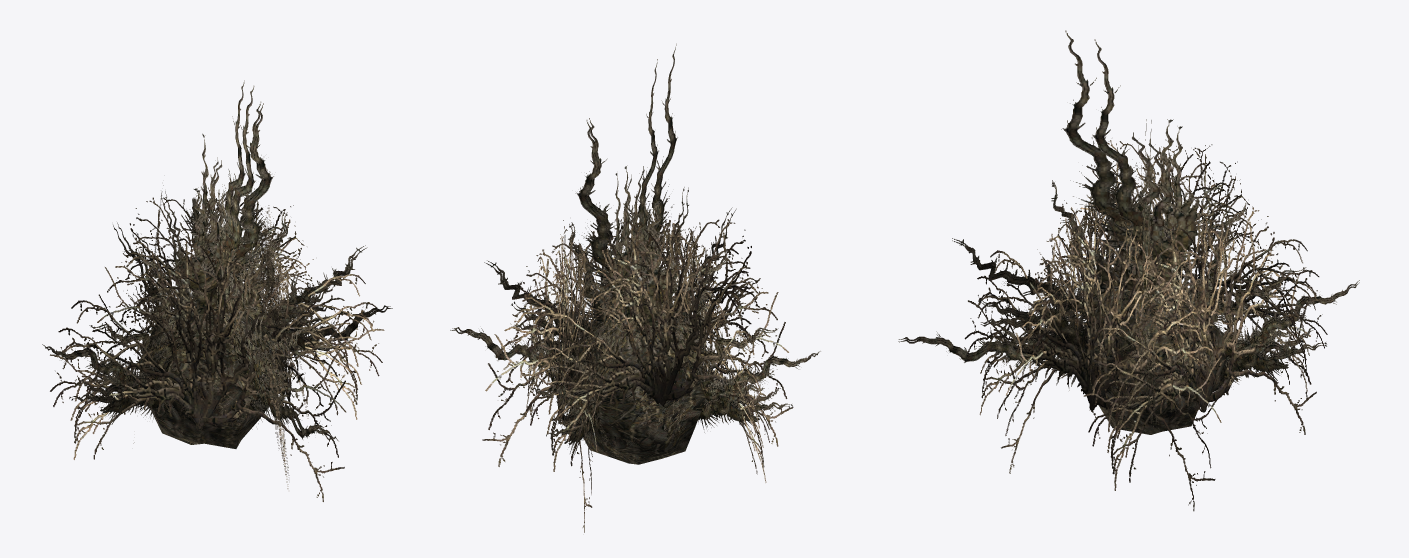
The model's file is poi_all_lair_brambles_small_l0.fbx.
3 renders of one model, left to right at view 1: azimuth 30°, elevation 25°; view 2: azimuth 150°, elevation 25°; view 3: azimuth 270°, elevation 25°, orthographic. The views are drawn at different scales.
Parts seen in each view (by area): view 1: mesh_node; view 2: mesh_node; view 3: mesh_node.
Boxes of the visible parts, bbox=[...] form: mesh_node: bbox=[42, 80, 392, 501]; mesh_node: bbox=[450, 43, 820, 532]; mesh_node: bbox=[898, 30, 1359, 511].
Bounding box in the file's own units: 3.11 × 3.27 × 3.33.
